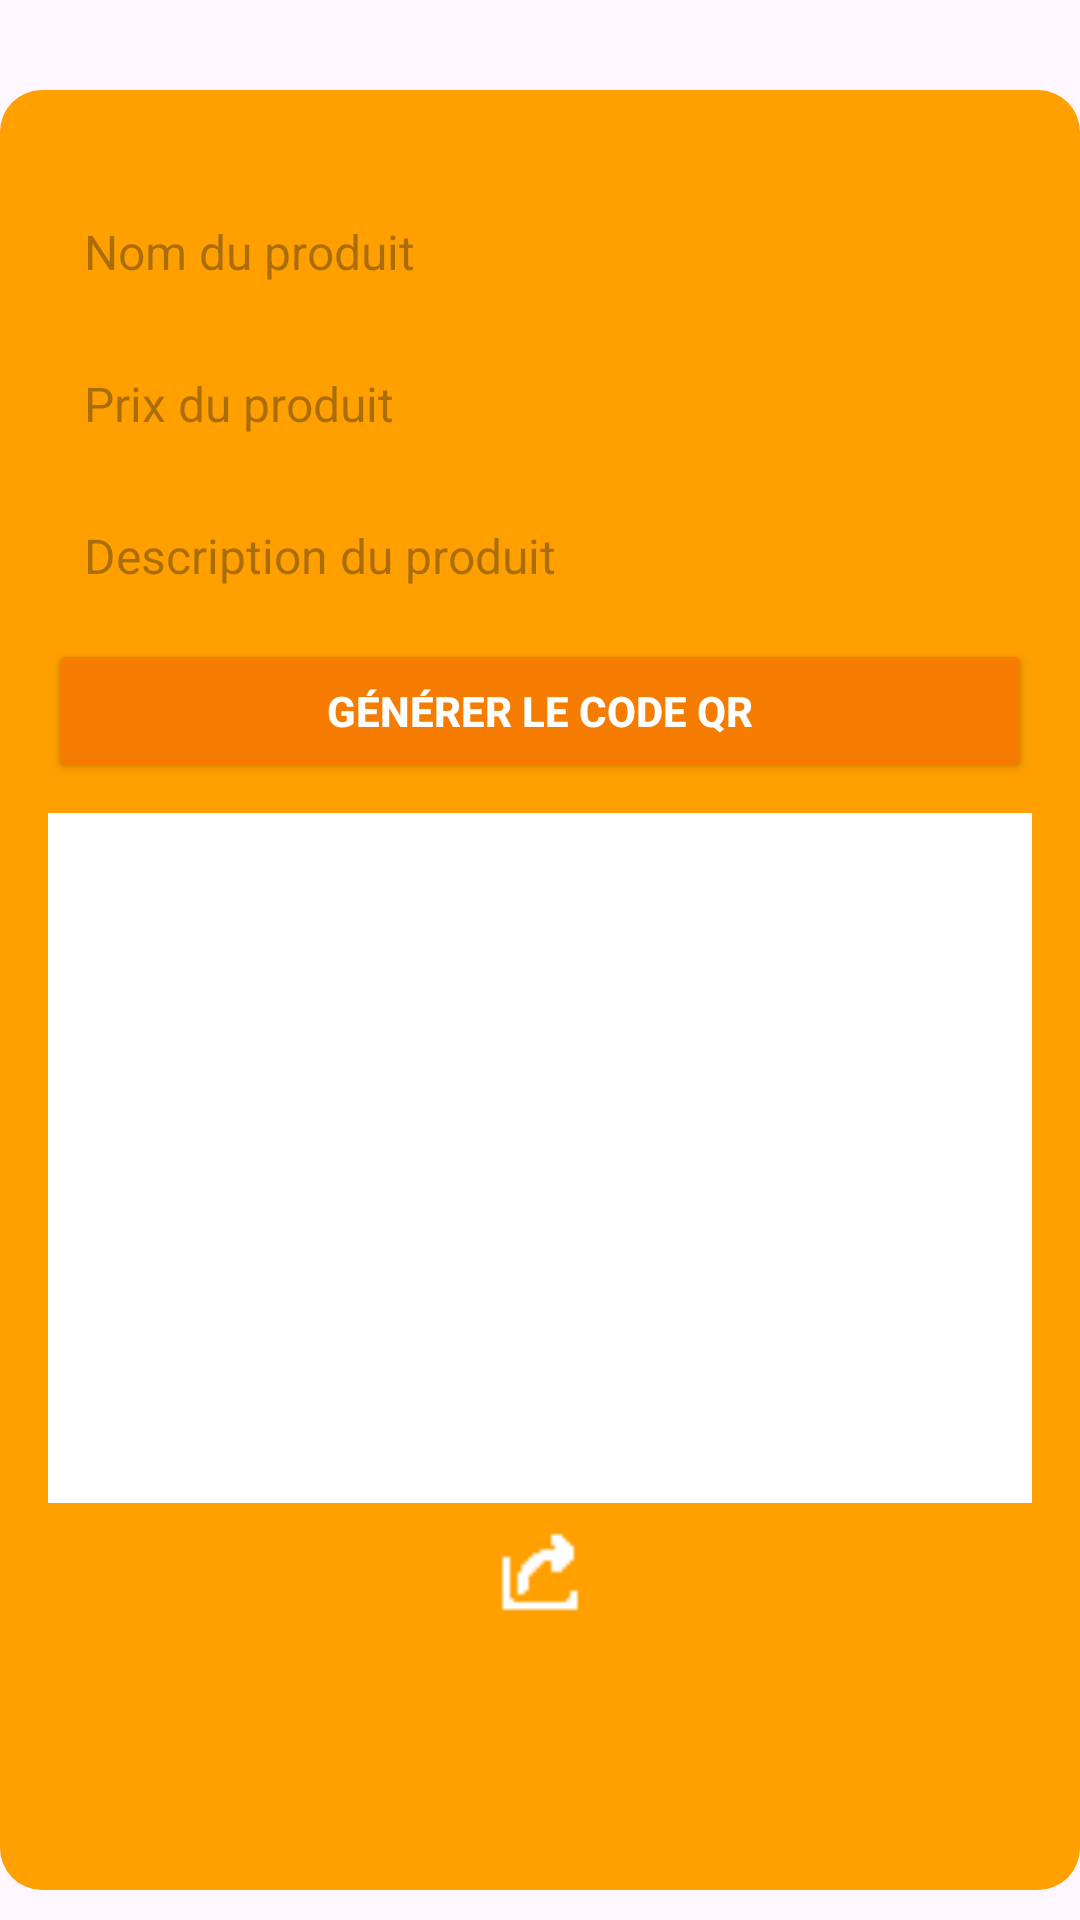

Screen size 1080px×1920px. Icon name, then its center in pixels as (x,y):
partage: (540,1572)
